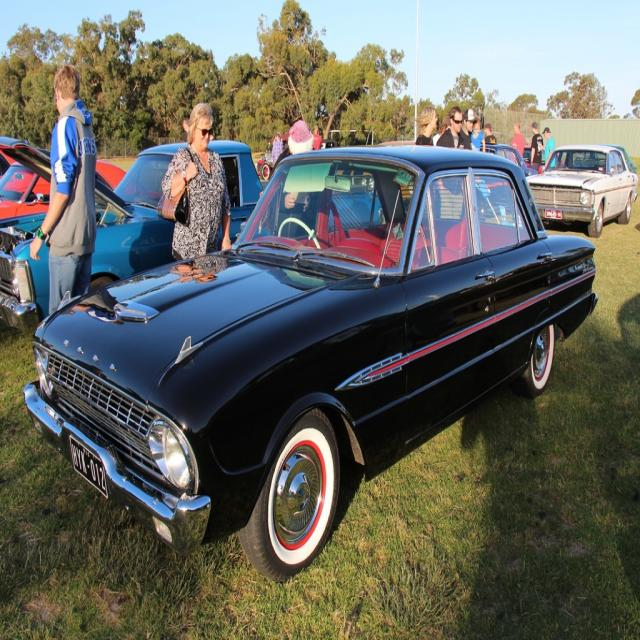other: (24, 141, 594, 586), (520, 142, 640, 240), (0, 152, 121, 222)
